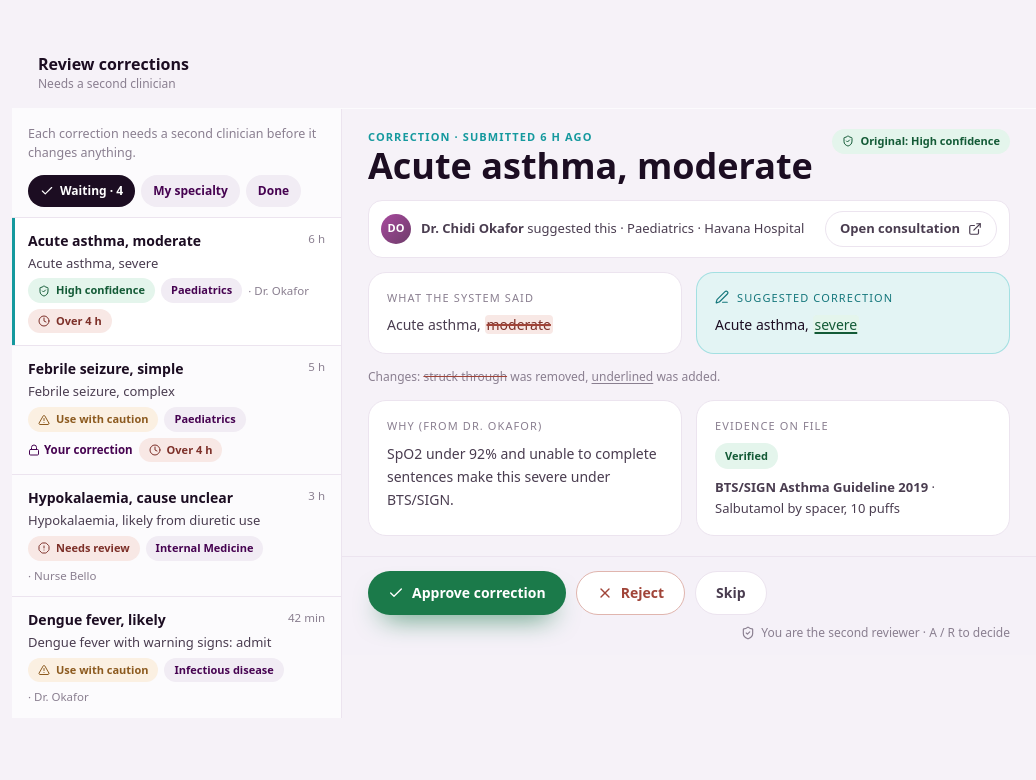
ReviewView › opening another row during the undo window confirms the approval
The image size is (1036, 780).
Click the button "Approve correction": (467, 593) [368,571,566,615]
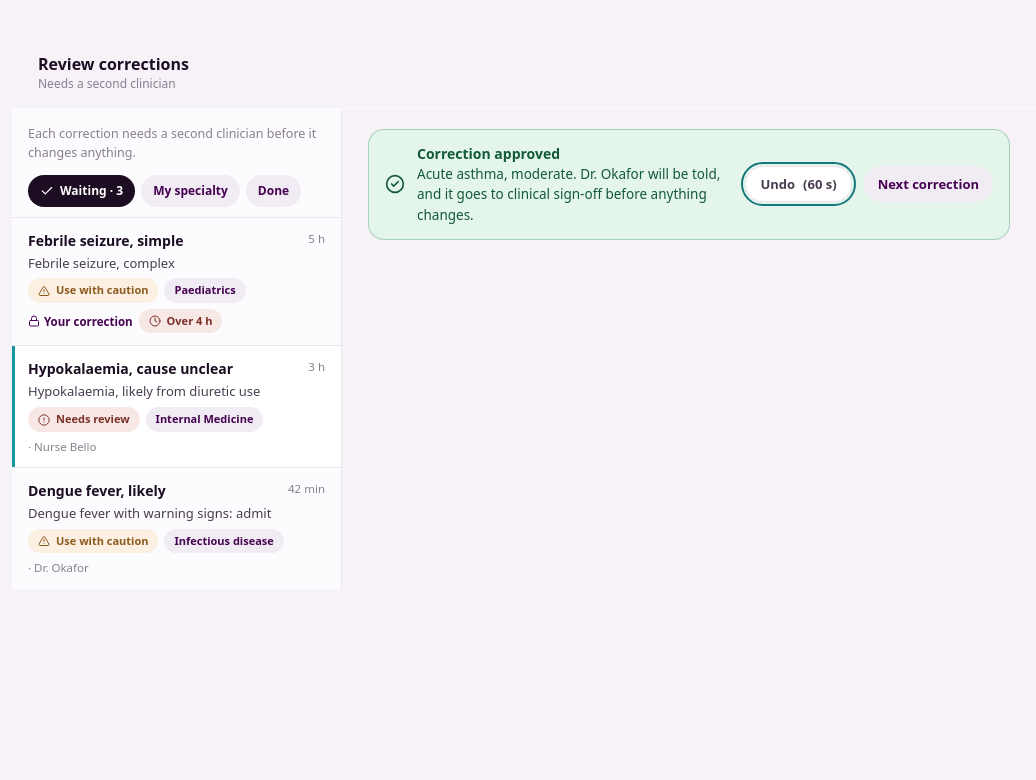
Click the button "Dengue fever, likely": (176, 528) [12,467,341,589]
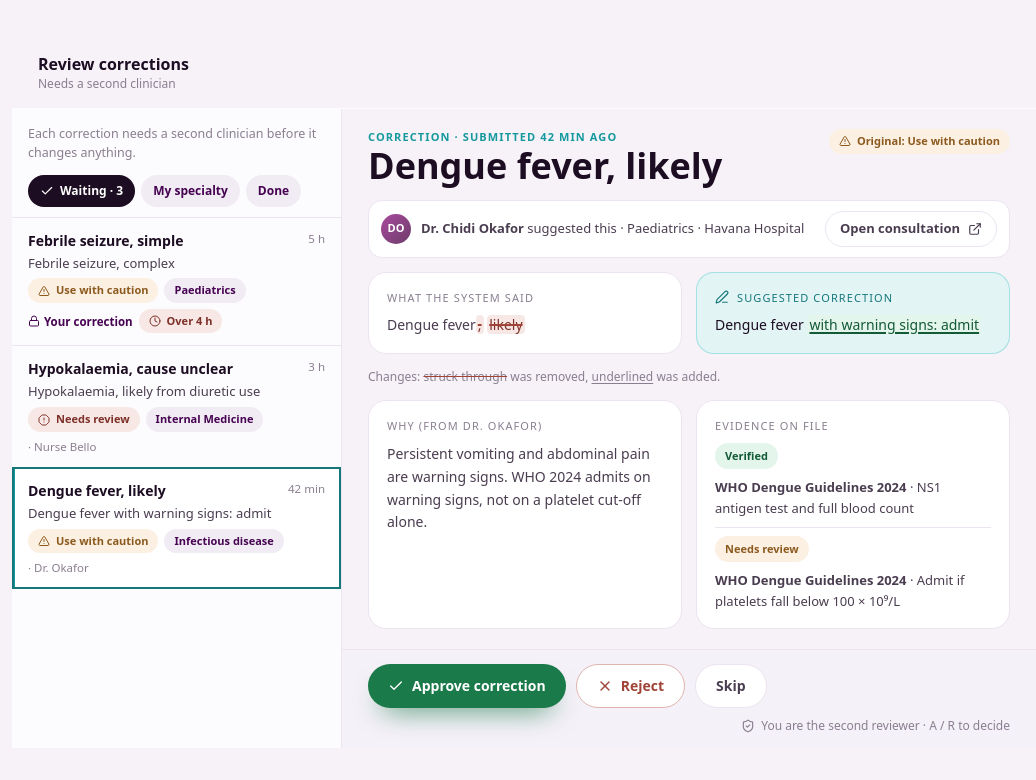
expect the heading "Dengue fever, likely" is shown: met, box [368,140,722,190]
expect the text "Correction approved" is gone: met
